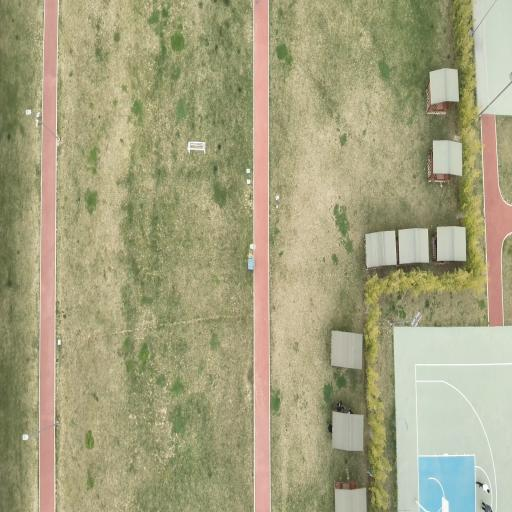person: (474, 477, 492, 497), (478, 499, 491, 512), (337, 399, 344, 411)
